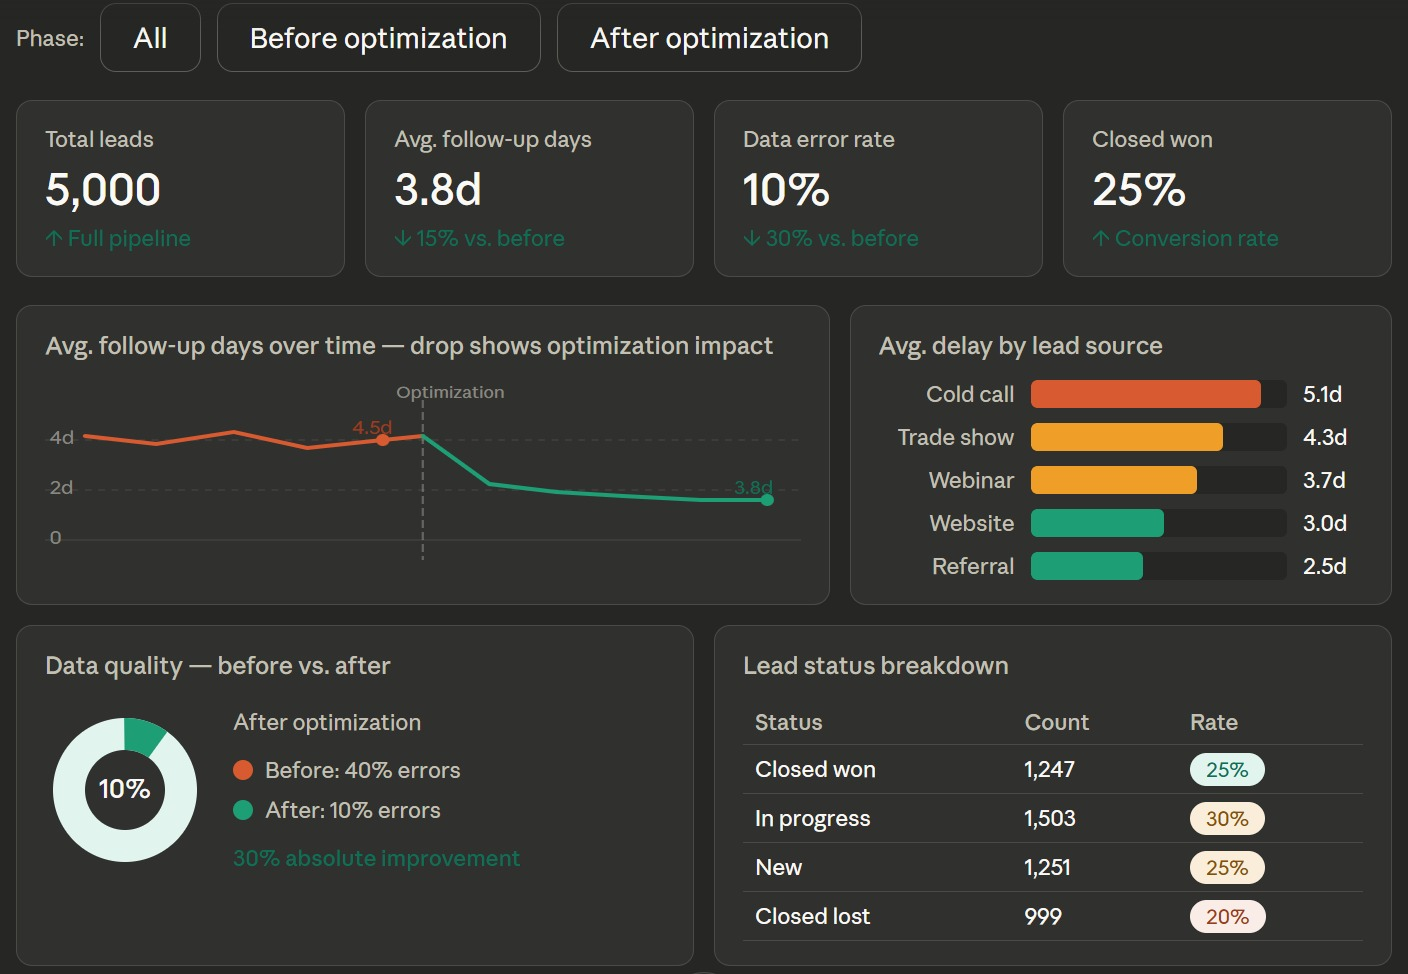

The dashboard page shown, as its layout file describes it:
{"tool":"powerbi","page":{"name":"Page 1","canvas":[1280,720],"ordinal":0},"visuals":[{"type":"card","title":"Total Leads","fields":{"Values":["CRM_Sales_Pipeline_Data.Total Leads"]},"box":[720.9,11.4,167.5,97.5],"z":1000},{"type":"card","title":"Avg Follow up days","fields":{"Values":["CRM_Sales_Pipeline_Data.Average Follow up days"]},"box":[888.4,11.4,170,97.5],"z":2000},{"type":"card","title":"Data Error Rate %","fields":{"Values":["CRM_Sales_Pipeline_Data.Error Rate %"]},"box":[1058.4,11.4,167.5,97.5],"z":3000},{"type":"lineChart","fields":{"Y":["CRM_Sales_Pipeline_Data.Average Follow up days"],"Category":["CRM_Sales_Pipeline_Data.Date_Assigned.Variation.Date Hierarchy.Month"]},"box":[0,188.6,654.3,288.6],"z":4000},{"type":"clusteredBarChart","title":"Bottleneck Analysis by Lead Source","fields":{"Category":["CRM_Sales_Pipeline_Data.Lead_Source"],"Y":["CRM_Sales_Pipeline_Data.Average Follow up days"]},"box":[672.9,262.9,607.1,214.3],"z":5000},{"type":"slicer","fields":{"Values":["CRM_Sales_Pipeline_Data.Phase"]},"box":[810,140,325.7,97.1],"z":6000},{"type":"donutChart","title":"Data Quality: Before vs After","fields":{"Category":["CRM_Sales_Pipeline_Data.Data_Quality_Flag"],"Y":["CountNonNull(CRM_Sales_Pipeline_Data.Lead_ID)"]},"box":[0,488.6,602.9,231.4],"z":6001},{"type":"tableEx","title":"Lead Status Breakdown","fields":{"Values":["CRM_Sales_Pipeline_Data.Status","CRM_Sales_Pipeline_Data.Lead_ID","Avg(CRM_Sales_Pipeline_Data.Days_To_Follow_Up)"]},"box":[652.9,488.6,627.1,178.6],"z":6002},{"type":"textbox","box":[0,0,672.9,97.1],"z":6003}]}

Visuals, with their boxes on the page's 1280x720 design canvas (x1, y1, x2, y2). These are canvas units, not pixel positions in the 1408x974 screenshot, which may show the page scaled, cropped or inside an application window:
"Total Leads" card: bbox=(721, 11, 888, 109)
"Avg Follow up days" card: bbox=(888, 11, 1058, 109)
"Data Error Rate %" card: bbox=(1058, 11, 1226, 109)
lineChart - CRM_Sales_Pipeline_Data.Average Follow up days x CRM_Sales_Pipeline_Data.Date_Assigned.Variation.Date Hierarchy.Month: bbox=(0, 189, 654, 477)
"Bottleneck Analysis by Lead Source" clusteredBarChart: bbox=(673, 263, 1280, 477)
slicer - CRM_Sales_Pipeline_Data.Phase: bbox=(810, 140, 1136, 237)
"Data Quality: Before vs After" donutChart: bbox=(0, 489, 603, 720)
"Lead Status Breakdown" tableEx: bbox=(653, 489, 1280, 667)
textbox: bbox=(0, 0, 673, 97)
